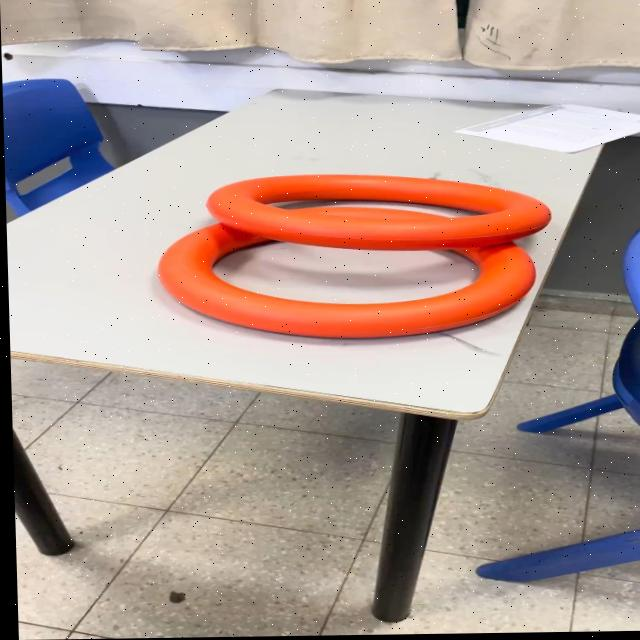note: (151, 203, 540, 344), (198, 171, 553, 254)
